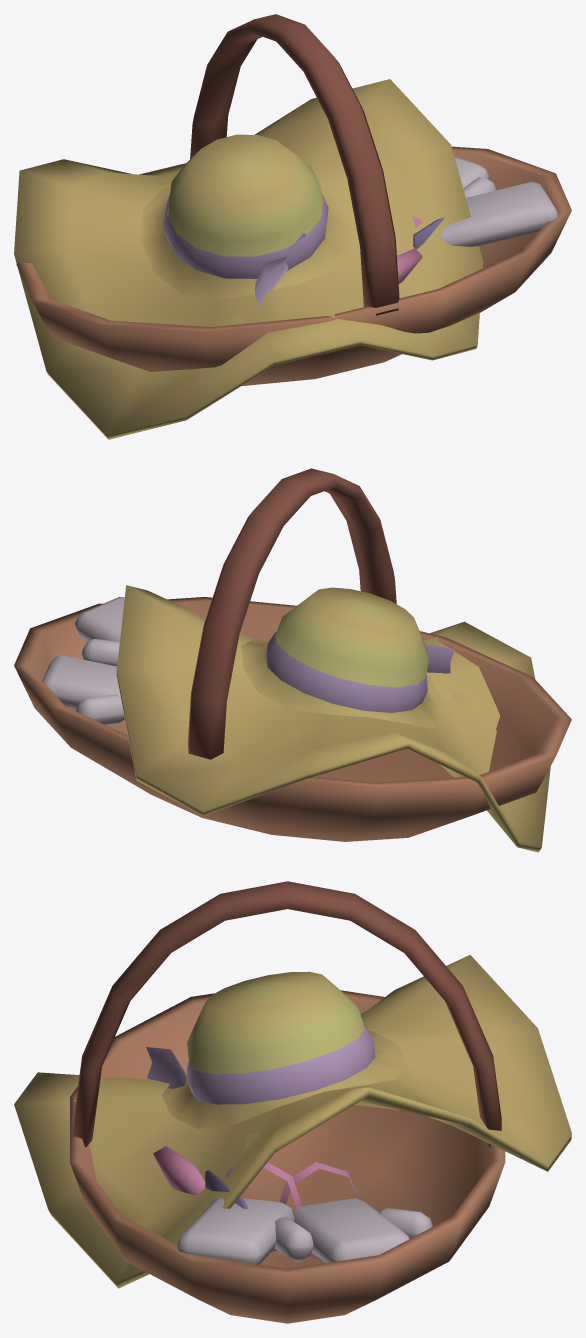
The model's file is garden_trug.glb.
The picture shows the model from 3 angles, top to bottom: view 1: azimuth 30°, elevation 25°; view 2: azimuth 150°, elevation 25°; view 3: azimuth 270°, elevation 25°; orthographic projection. The views are drawn at different scales.
Parts seen in each view (by area): view 1: garden_trug; view 2: garden_trug; view 3: garden_trug.
Part boxes in pixels (bbox=[...]): garden_trug: bbox=[14, 14, 571, 439]; garden_trug: bbox=[14, 468, 571, 852]; garden_trug: bbox=[14, 881, 571, 1323].
Size of what is drawn, in the model's own units: 0.675 by 0.417 by 0.54.
